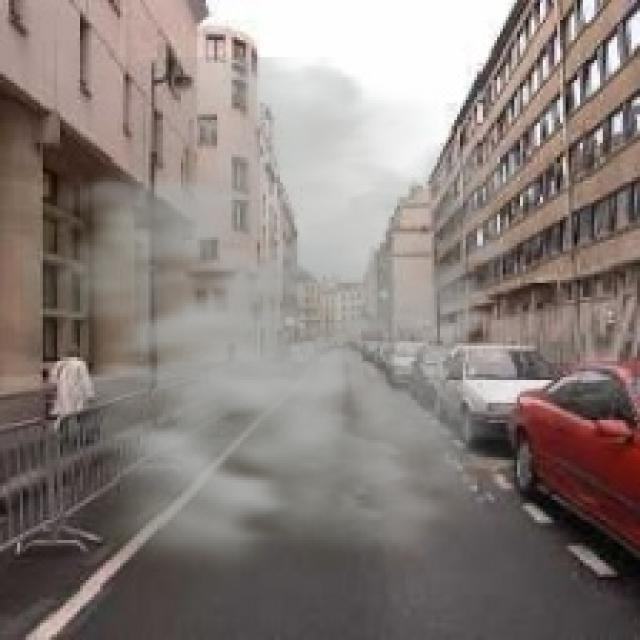Smoke: (20, 57, 583, 600)
